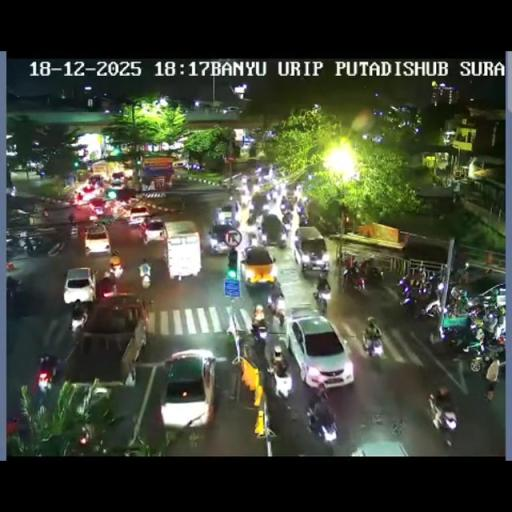Car: (75, 292, 150, 381), (285, 312, 353, 390), (159, 350, 216, 432), (162, 222, 201, 279), (240, 245, 277, 289), (293, 227, 328, 271), (62, 266, 96, 305), (206, 222, 240, 254), (84, 225, 110, 256), (142, 216, 168, 243), (110, 186, 139, 208), (215, 202, 239, 226), (128, 205, 150, 224), (89, 198, 108, 216), (110, 171, 126, 187), (88, 174, 104, 188), (222, 106, 241, 114), (172, 160, 188, 169)
Motorcycle: (461, 326, 504, 374), (401, 272, 440, 316), (306, 398, 338, 447), (428, 396, 458, 446), (428, 318, 467, 356), (31, 370, 58, 412), (68, 420, 101, 454), (465, 298, 501, 329), (270, 348, 292, 395), (278, 396, 304, 424), (362, 327, 384, 358), (234, 328, 257, 357), (6, 417, 24, 452), (342, 266, 366, 292), (69, 303, 88, 334), (362, 263, 384, 289), (266, 276, 284, 306), (6, 276, 21, 310), (250, 314, 268, 341), (313, 286, 330, 314), (96, 275, 115, 300), (448, 284, 469, 306), (6, 234, 26, 256), (312, 379, 330, 402), (453, 265, 470, 287), (138, 296, 155, 318), (24, 235, 42, 255), (46, 239, 66, 257), (244, 225, 258, 247), (272, 306, 286, 327), (109, 261, 124, 279), (485, 380, 496, 402), (140, 270, 151, 290), (246, 199, 257, 219), (266, 188, 281, 202), (297, 210, 309, 226), (246, 174, 258, 189), (343, 256, 355, 270), (69, 222, 78, 240), (282, 210, 292, 226), (240, 183, 250, 199), (262, 198, 272, 213), (278, 233, 287, 248), (111, 249, 120, 260), (222, 180, 230, 191), (68, 212, 74, 225), (42, 208, 48, 218), (484, 268, 494, 274)
